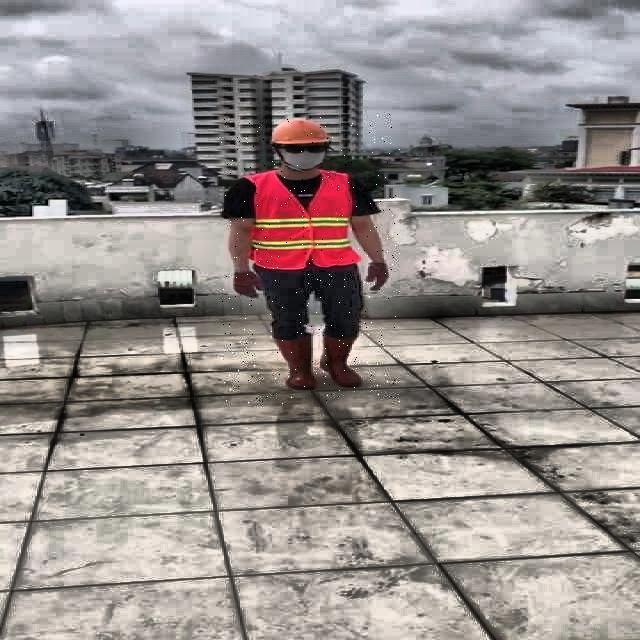safety_helmet: (268, 118, 330, 146)
safety_jacket: (248, 171, 358, 268)
